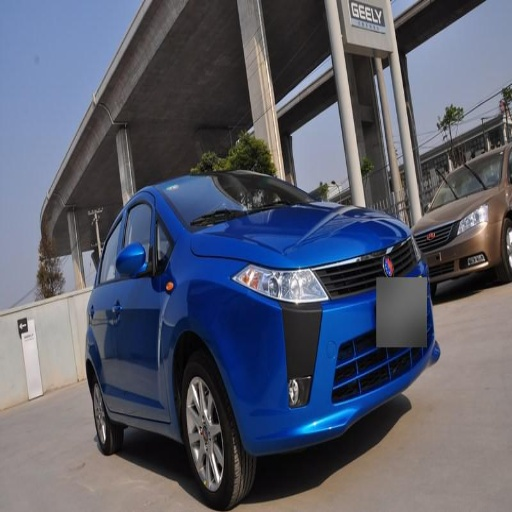front_bumper: (227, 250, 429, 448)
front_right_door: (119, 195, 166, 416)
front_right_light: (235, 265, 325, 303)
